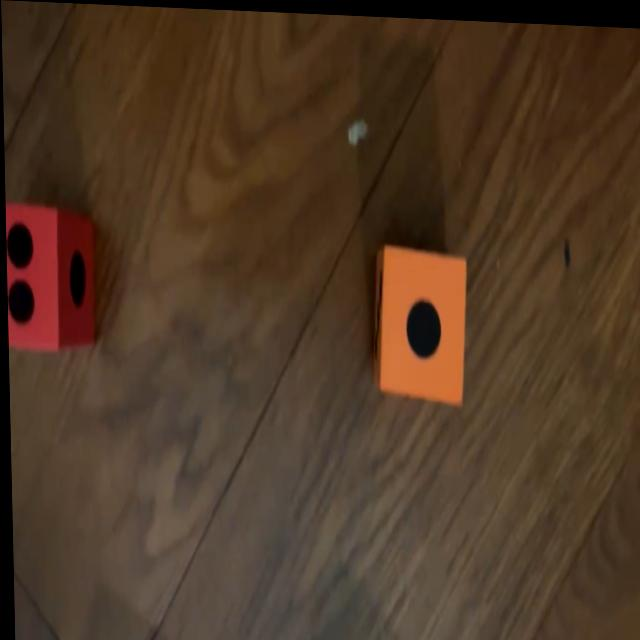red_block: (4, 204, 94, 353)
